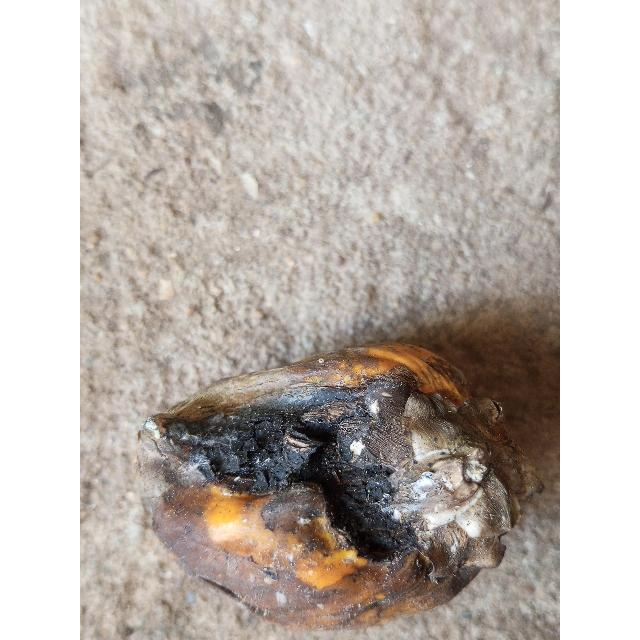damaged: (138, 344, 542, 629)
